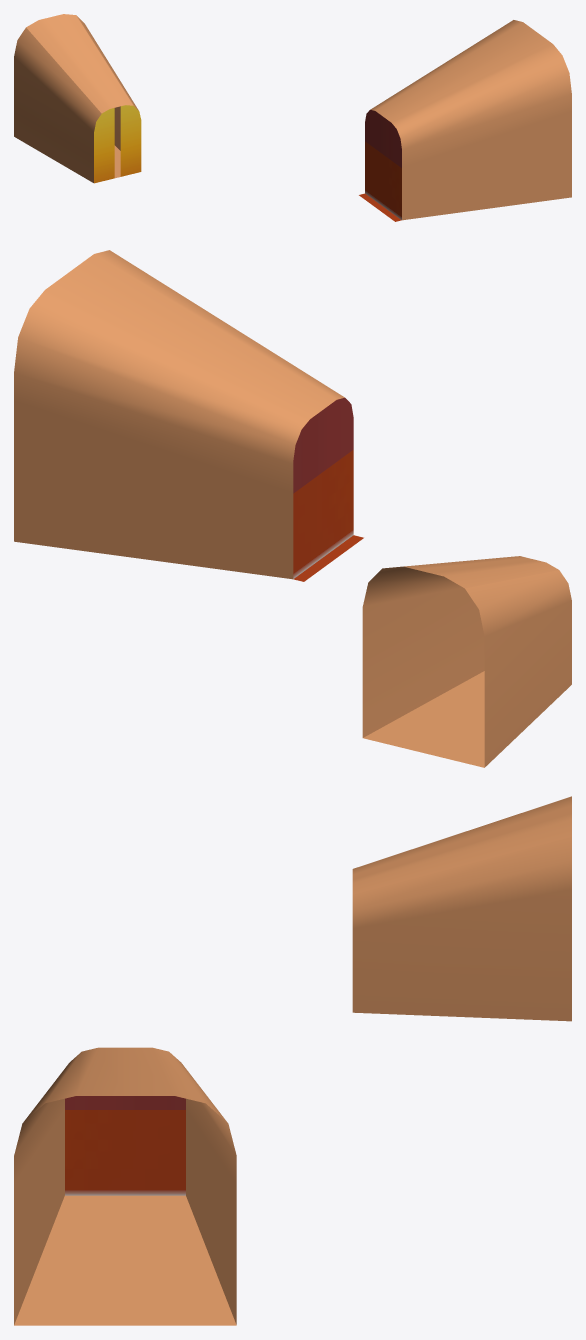
File: Barrack_Light.fbx
3 views of the same model, one above another, from view 1: azimuth 30°, elevation 25°; view 2: azimuth 150°, elevation 25°; view 3: azimuth 270°, elevation 25° (orthographic). The views are drawn at different scales.
Visible parts, largest first — view 1: Light2, Light1, LightDoor, LightWindow; view 2: Light2, Light1, LightDoor; view 3: Light2, Light1, LightDoor.
Part boxes in pixels (bbox=[...]): Light2: bbox=[370, 20, 571, 220]; Light1: bbox=[14, 14, 138, 182]; LightDoor: bbox=[359, 109, 401, 221]; LightWindow: bbox=[94, 105, 141, 183]; Light2: bbox=[14, 250, 344, 579]; Light1: bbox=[362, 556, 571, 767]; LightDoor: bbox=[293, 397, 363, 581]; Light2: bbox=[14, 1047, 236, 1325]; Light1: bbox=[352, 796, 571, 1021]; LightDoor: bbox=[65, 1096, 185, 1195].
Size of the model in its own units: 1.22 by 0.4257 by 0.9205.
2 materials, 1 textured.
